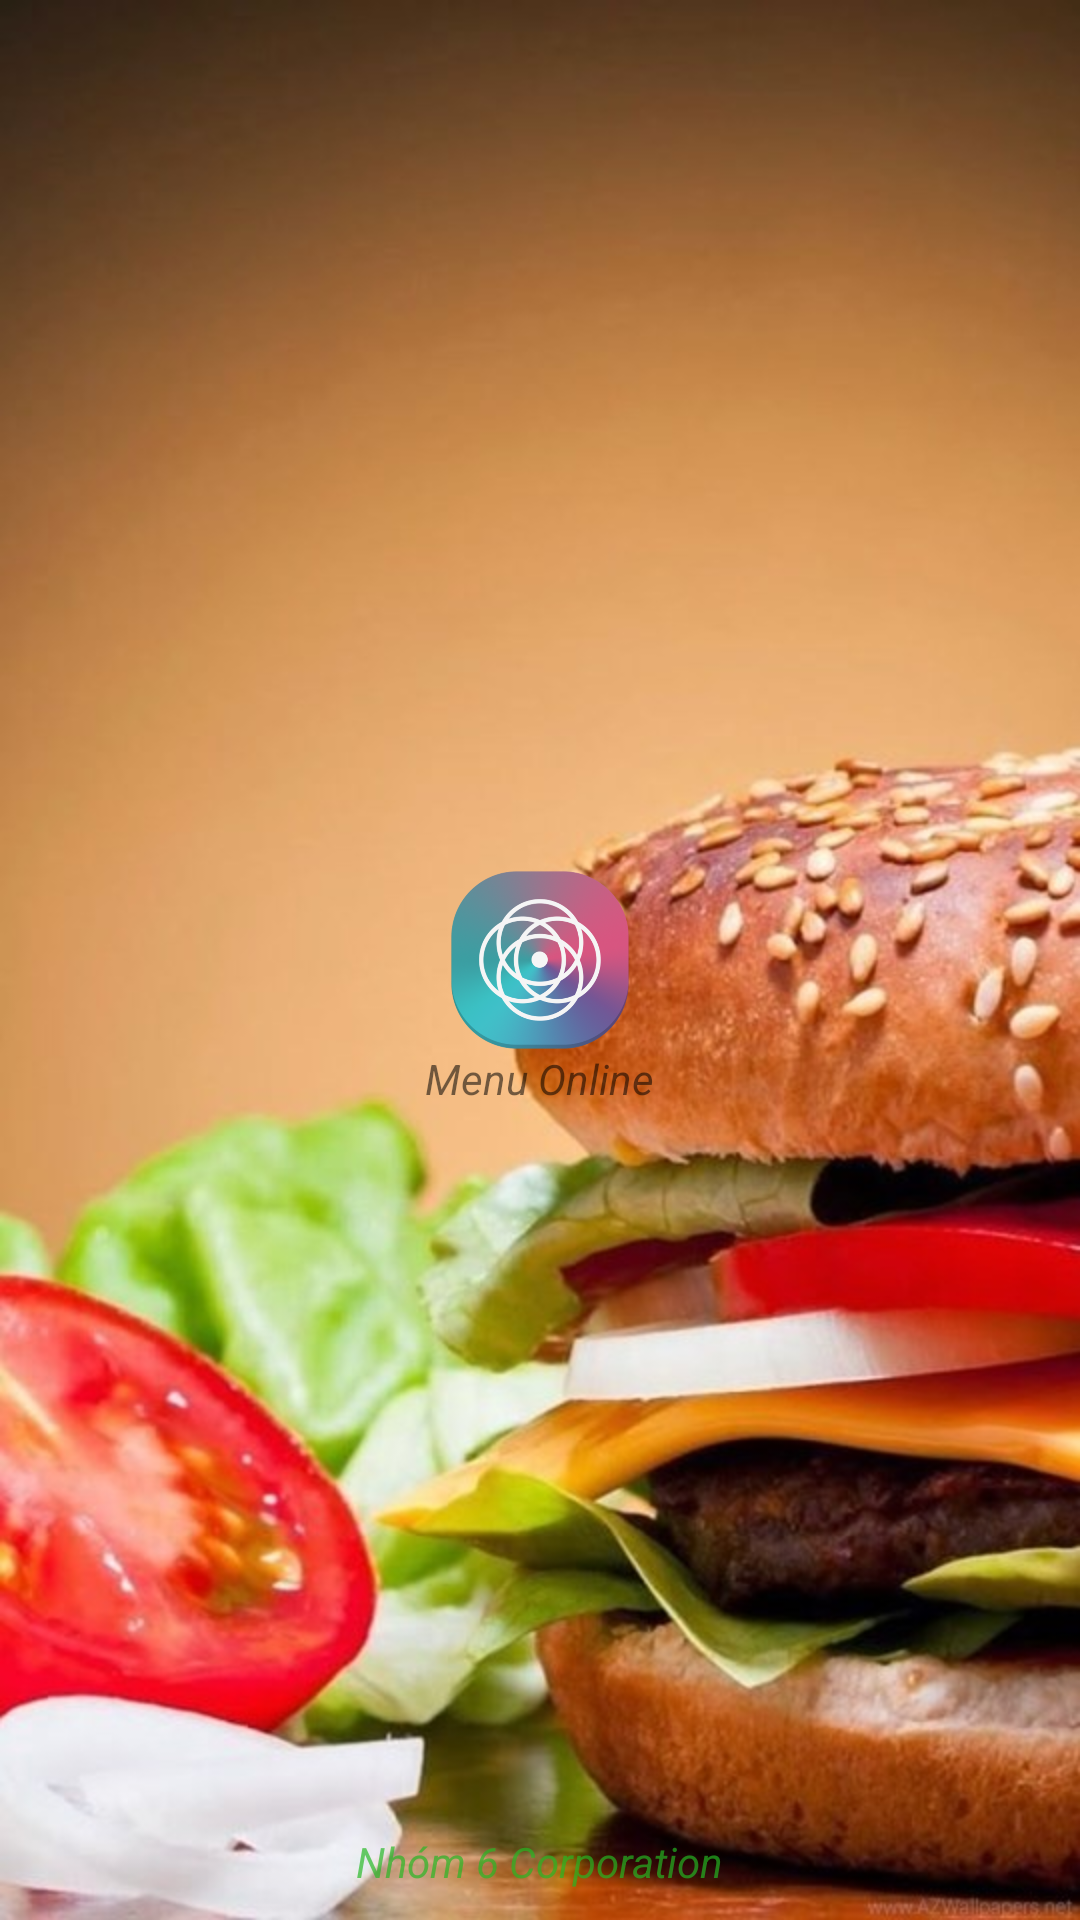

Where to tap for icons on this 1080*1920 app screen, as (x=x, y=y):
apk: (x=540, y=960)
